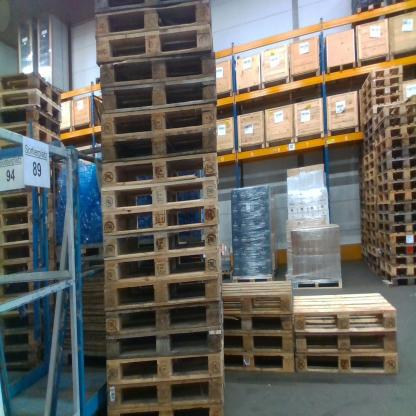pallet: (108, 344, 228, 387), (106, 267, 222, 311), (99, 96, 222, 137), (99, 49, 219, 87), (98, 176, 218, 214), (105, 299, 225, 337), (103, 222, 222, 258), (108, 373, 229, 408), (108, 322, 227, 357), (94, 3, 216, 37), (104, 129, 218, 165), (97, 75, 223, 107), (105, 249, 222, 283), (94, 28, 217, 60), (292, 294, 398, 330), (97, 204, 221, 231), (97, 157, 218, 184), (295, 349, 402, 378), (295, 326, 399, 352), (221, 279, 292, 311), (1, 123, 61, 152), (2, 92, 62, 120), (1, 110, 62, 136), (2, 77, 62, 103), (223, 330, 293, 350), (219, 314, 291, 333), (93, 1, 209, 12), (223, 351, 296, 368), (361, 77, 402, 107), (362, 65, 403, 93), (1, 309, 55, 330), (2, 276, 55, 297), (1, 259, 55, 279), (108, 406, 226, 415), (2, 191, 55, 211), (373, 102, 414, 127), (2, 240, 53, 259), (1, 211, 53, 229), (1, 297, 55, 314), (363, 86, 399, 111), (351, 3, 385, 29), (362, 96, 398, 120), (289, 273, 343, 289), (377, 115, 415, 137), (377, 127, 415, 148), (1, 226, 53, 241), (378, 146, 415, 167), (2, 350, 42, 369), (377, 137, 415, 156), (378, 156, 415, 175), (378, 256, 414, 273), (378, 168, 415, 184), (1, 330, 40, 345), (379, 251, 415, 267), (378, 182, 414, 198), (379, 239, 415, 254), (231, 273, 276, 285), (378, 201, 415, 215), (378, 191, 415, 205), (380, 271, 414, 286), (379, 220, 415, 234), (380, 232, 415, 246), (378, 212, 415, 224), (363, 107, 382, 125), (362, 134, 377, 151), (220, 267, 234, 285), (363, 127, 374, 142), (362, 119, 373, 133), (363, 152, 374, 166), (363, 160, 374, 174), (366, 236, 378, 248), (362, 145, 375, 156), (368, 261, 378, 275), (365, 169, 375, 182), (366, 242, 375, 256), (365, 178, 376, 189), (367, 253, 378, 264), (365, 219, 375, 230), (365, 186, 374, 197), (365, 195, 376, 204), (365, 203, 376, 212), (366, 212, 377, 221), (367, 227, 376, 238)
stillage: (4, 280, 77, 415), (50, 257, 117, 370), (51, 146, 103, 264)
